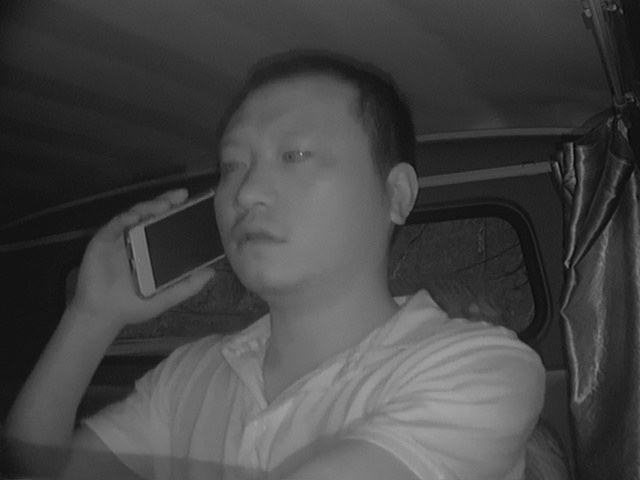hand: (81, 188, 214, 322)
